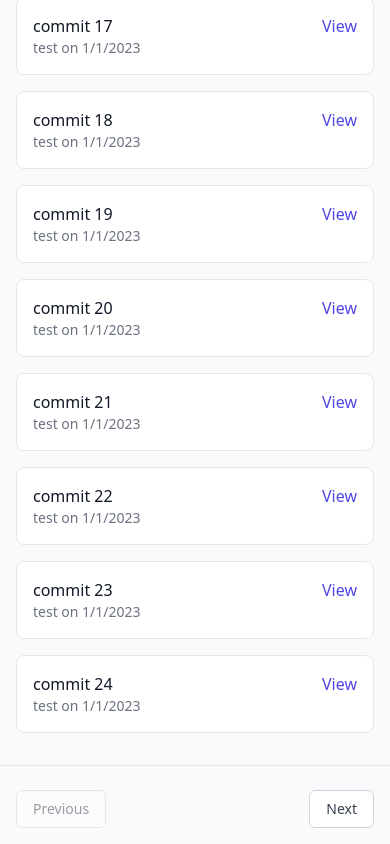
PaginatedDetails › handles pagination correctly
(page scrolled)
Check: the text with class "dark" reads "commit 24", box [33, 673, 113, 695]
Click the button "Next". click: click(342, 809)
box: [309, 790, 374, 828]
(page scrolled)
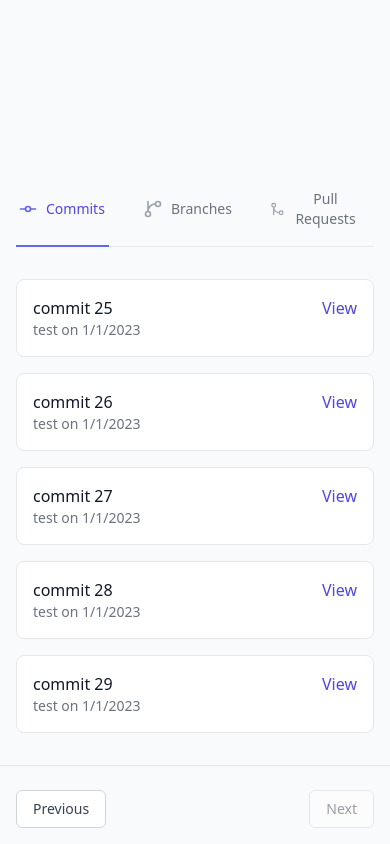
Check: the text with class "dark" reads "commit 25", box [33, 297, 113, 319]
Check: the text with class "dark" reads "commit 29", box [33, 673, 113, 695]
